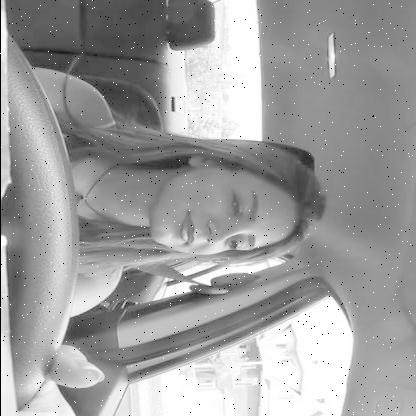seatbelt: (69, 142, 324, 302)
